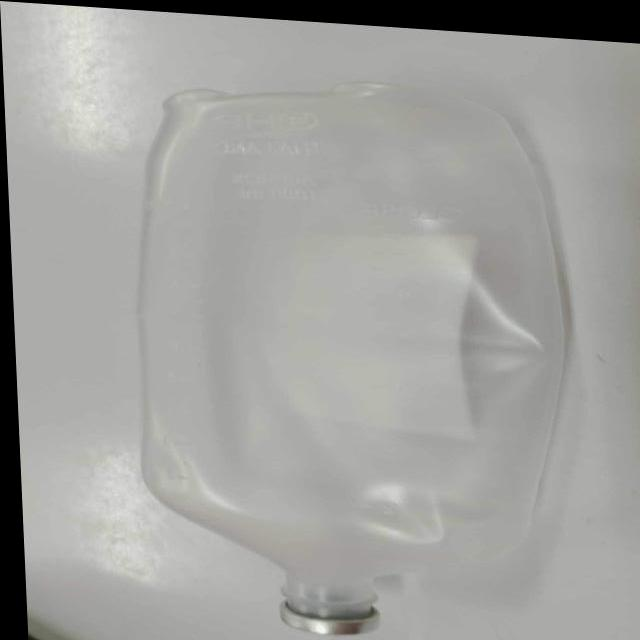General: (134, 78, 567, 633)
